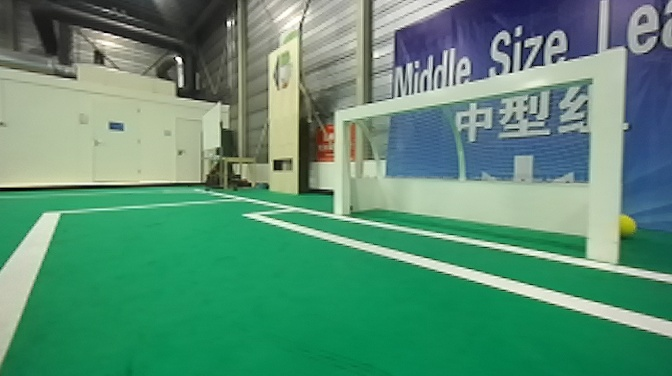ball: (613, 208, 641, 237)
goalpost: (584, 46, 622, 267), (331, 106, 354, 219)
